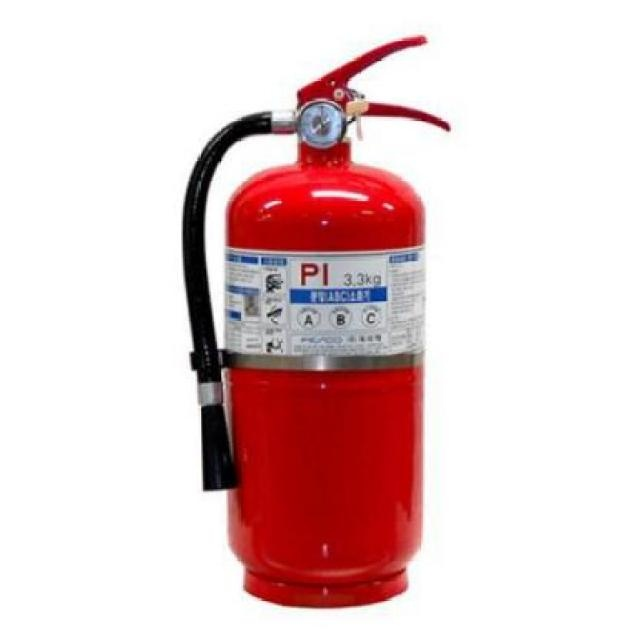fire extinguisher: (183, 35, 452, 610)
